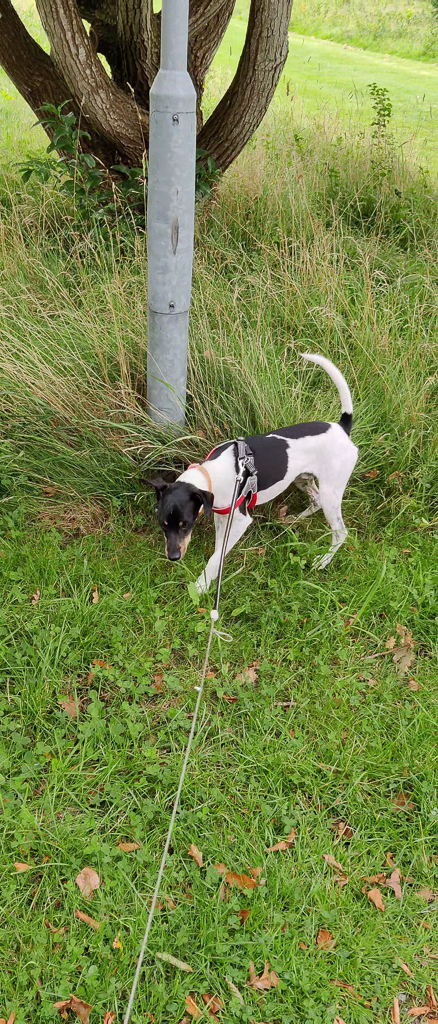Dog: (131, 340, 369, 608)
